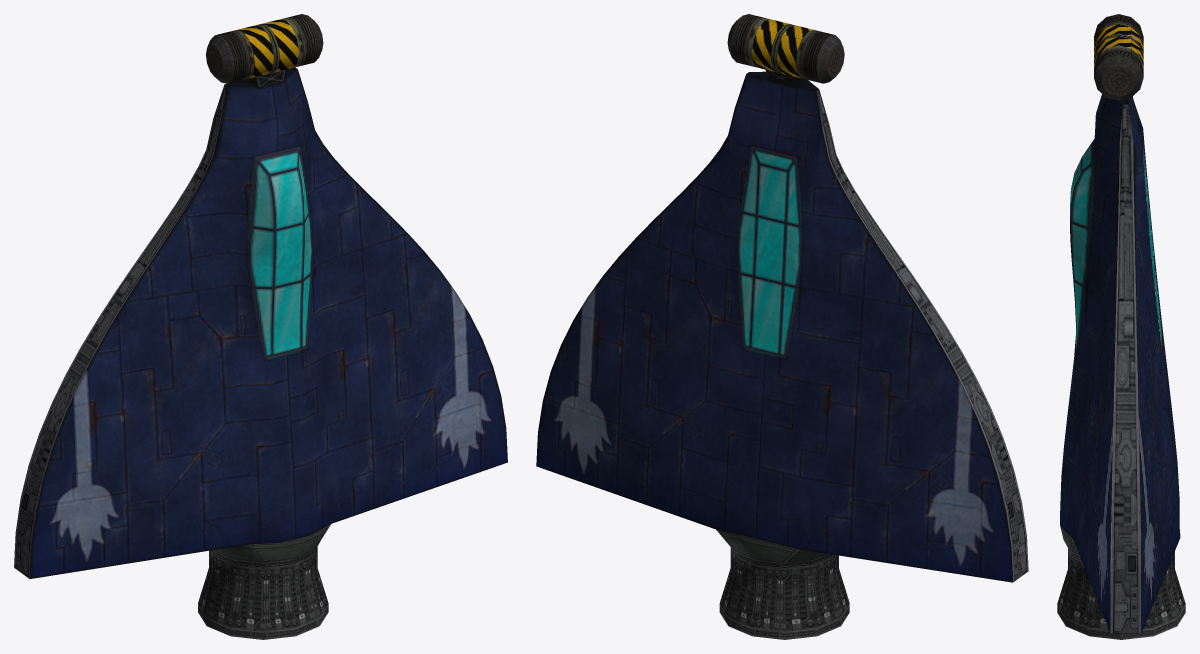
The model's file is Kamikaze.fbx.
The picture shows the model from 3 angles, left to right: view 1: azimuth 30°, elevation 25°; view 2: azimuth 150°, elevation 25°; view 3: azimuth 270°, elevation 25°; orthographic projection.
Visible parts, largest first — view 1: Kamikaze; view 2: Kamikaze; view 3: Kamikaze.
Part boxes in pixels (x1,y1,x2,y2): Kamikaze: (14, 14, 507, 639); Kamikaze: (536, 14, 1028, 639); Kamikaze: (1057, 14, 1185, 639).
Bounding box in the file's own units: 2.2 × 2.58 × 0.519.
Materials: 1 (1 with a texture image).
